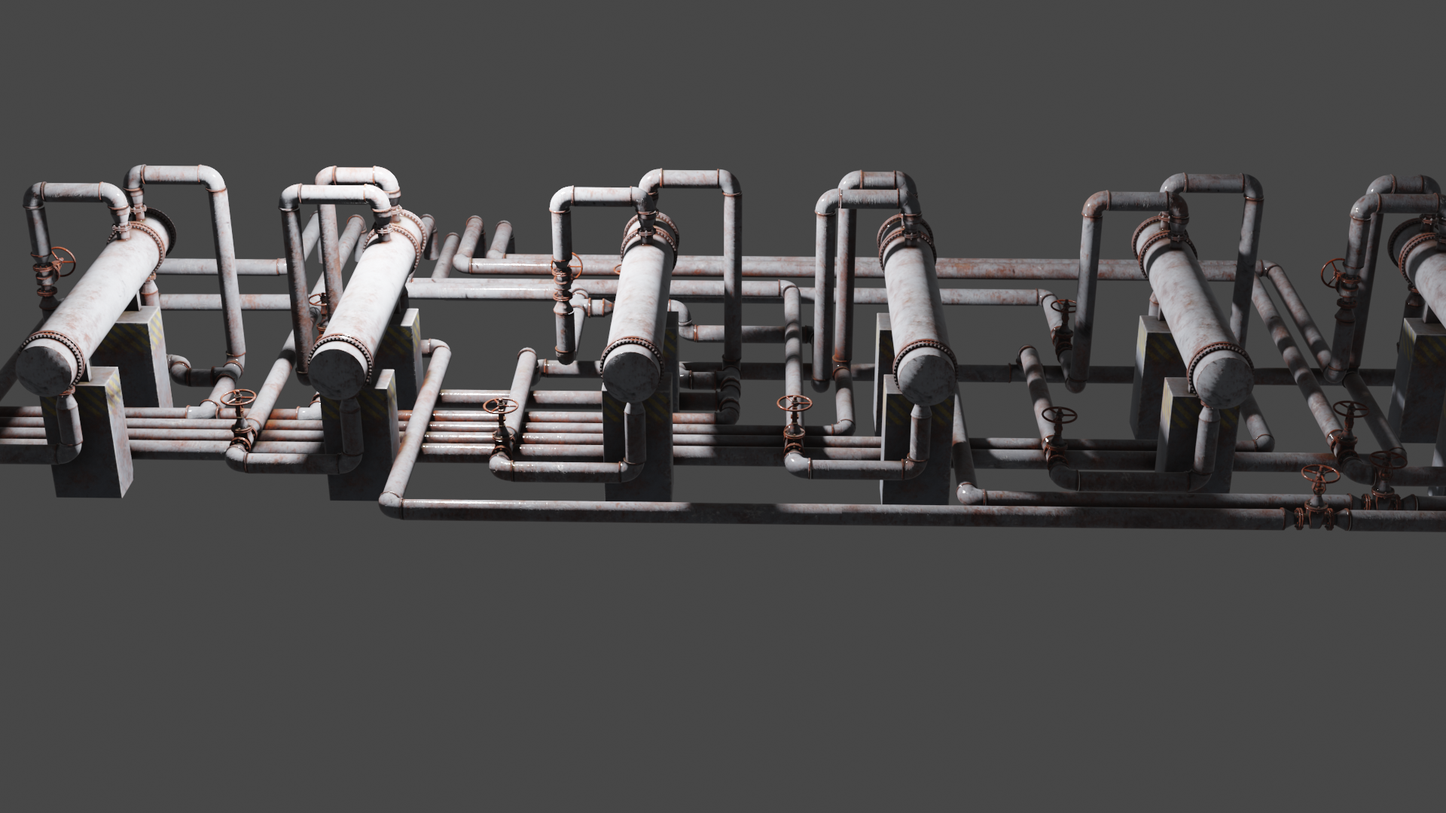HE_1: (1386, 219, 1446, 325)
HE_2: (1130, 210, 1262, 418)
HE_3: (875, 210, 963, 412)
HE_4: (595, 203, 681, 407)
HE_5: (309, 204, 430, 396)
HE_6: (12, 202, 180, 396)
